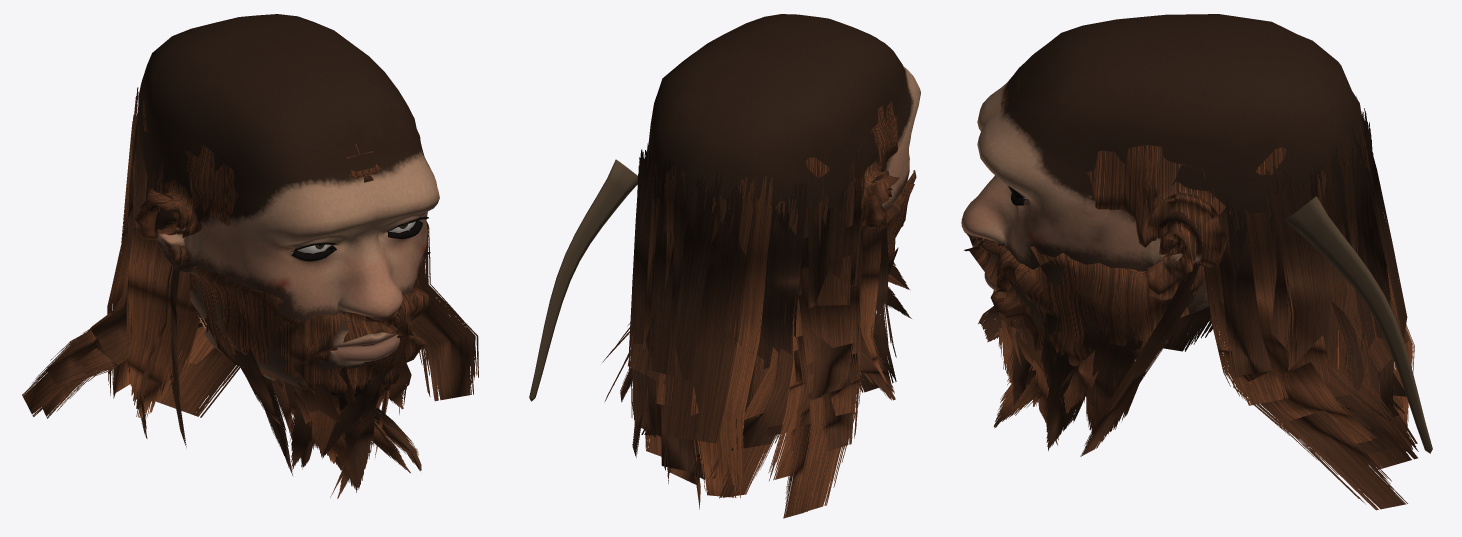
File: SM_Part_NeanderthalM_head.gltf
The picture shows the model from 3 angles, left to right: view 1: azimuth 30°, elevation 25°; view 2: azimuth 150°, elevation 25°; view 3: azimuth 270°, elevation 25°; orthographic projection. The views are drawn at different scales.
Visible parts, largest first — view 1: SM_Part_NeanderthalM_head; view 2: SM_Part_NeanderthalM_head; view 3: SM_Part_NeanderthalM_head.
Part boxes in pixels (x1,y1,x2,y2): SM_Part_NeanderthalM_head: [22, 14, 478, 498]; SM_Part_NeanderthalM_head: [529, 14, 920, 518]; SM_Part_NeanderthalM_head: [961, 14, 1432, 510].
Bounding box in the file's own units: 0.2442 × 0.3016 × 0.305.
Materials: 11 (6 with a texture image).
